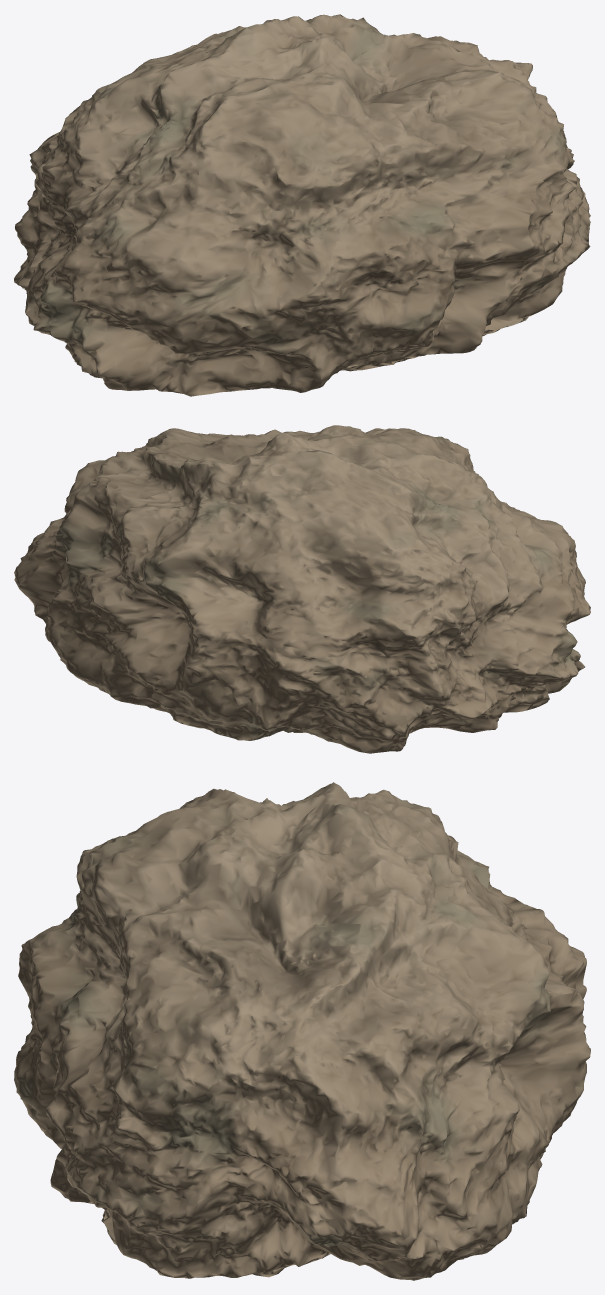
File: scan.glb
3 views of the same model, one above another, from view 1: azimuth 30°, elevation 25°; view 2: azimuth 150°, elevation 25°; view 3: azimuth 270°, elevation 25° (orthographic). The views are drawn at different scales.
Parts seen in each view (by area): view 1: Scan_0412; view 2: Scan_0412; view 3: Scan_0412.
Boxes of the visible parts, x1,y1,x2,y2 form: Scan_0412: (14, 14, 590, 396); Scan_0412: (14, 425, 590, 753); Scan_0412: (14, 782, 590, 1280).
Size of the model in its own units: 3.06 by 1.41 by 2.19.
